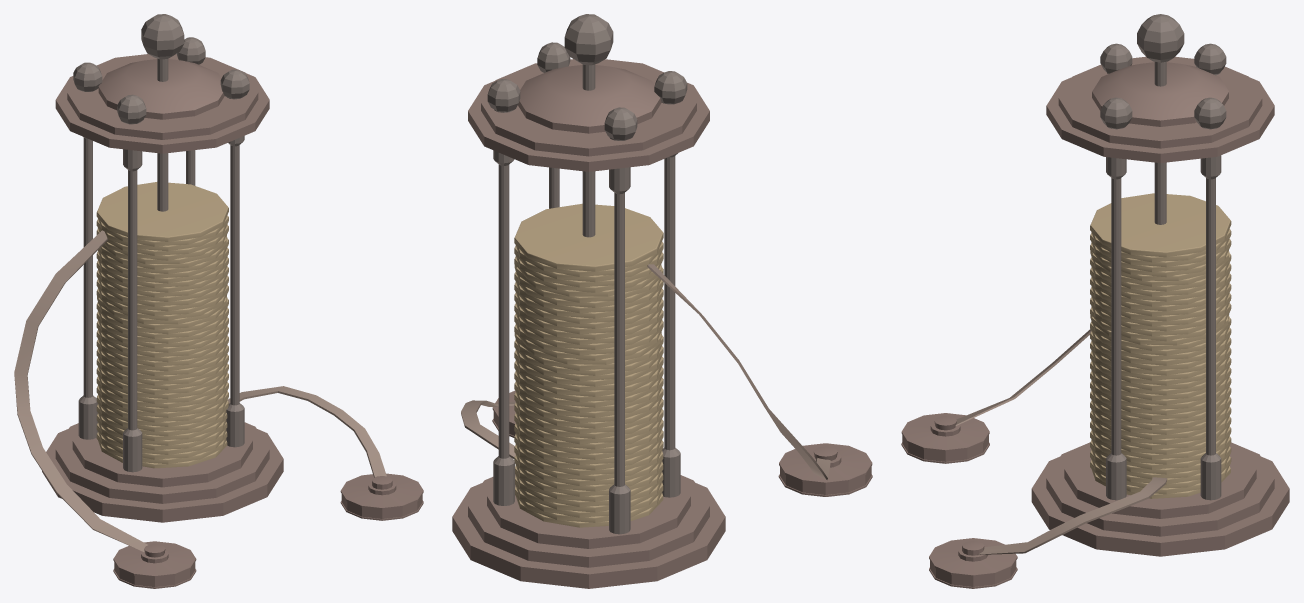
File: Bateria.fbx
The picture shows the model from 3 angles, left to right: view 1: azimuth 30°, elevation 25°; view 2: azimuth 150°, elevation 25°; view 3: azimuth 270°, elevation 25°; orthographic projection. The views are drawn at different scales.
Parts seen in each view (by area): view 1: pCylinder59, pCylinder62, pCylinder6, pCube2, pCylinder1, pCylinder2, pCylinder3, pCylinder63, pCylinder4, pCylinder8, pCylinder65, pCylinder10 (+57 smaller); view 2: pCylinder1, pCylinder59, pCylinder6, pCylinder62, pCylinder2, pCylinder63, pCylinder3, pCylinder10, pCylinder9, pCylinder4, pCylinder64, pSphere1 (+56 smaller); view 3: pCylinder62, pCylinder1, pCylinder59, pCylinder6, pCylinder2, pCylinder3, pCylinder63, pCylinder8, pCylinder9, pCylinder64, pCylinder65, pCube1 (+52 smaller).
Part boxes in pixels (box(x1,y1,x2,y2)): pCylinder59: box(96, 182, 228, 241); pCylinder62: box(67, 54, 258, 139); pCylinder6: box(98, 59, 224, 119); pCube2: box(14, 230, 147, 552); pCylinder1: box(42, 429, 283, 522); pCylinder2: box(55, 422, 269, 503); pCylinder3: box(72, 428, 252, 487); pCylinder63: box(55, 73, 269, 153); pCylinder4: box(123, 121, 142, 472); pCylinder8: box(226, 97, 244, 447); pCylinder65: box(340, 473, 423, 520); pCylinder10: box(78, 89, 97, 439); pCylinder1: box(452, 483, 725, 588); pCylinder59: box(514, 203, 663, 271); pCylinder6: box(518, 65, 661, 133); pCylinder62: box(481, 59, 696, 156); pCylinder2: box(468, 475, 709, 567); pCylinder63: box(468, 81, 709, 171); pCylinder3: box(487, 474, 690, 548); pCylinder10: box(609, 137, 630, 534); pCylinder9: box(493, 109, 514, 505); pCylinder4: box(661, 102, 680, 497); pCylinder64: box(778, 443, 872, 496); pSphere1: box(564, 14, 613, 65); pCylinder62: box(1058, 56, 1262, 148); pCylinder1: box(1031, 456, 1289, 556); pCylinder59: box(1090, 193, 1231, 257); pCylinder6: box(1092, 62, 1228, 126); pCylinder2: box(1046, 442, 1274, 536); pCylinder3: box(1064, 443, 1256, 518); pCylinder63: box(1046, 77, 1274, 163); pCylinder8: box(1106, 128, 1126, 500); pCylinder9: box(1200, 128, 1221, 500); pCylinder64: box(901, 413, 989, 463); pCylinder65: box(929, 538, 1017, 588); pCube1: box(977, 477, 1167, 554).
Size of the model in its own units: 10.11 by 13.27 by 9.61.
